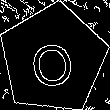O_N: (27, 29, 79, 88)
